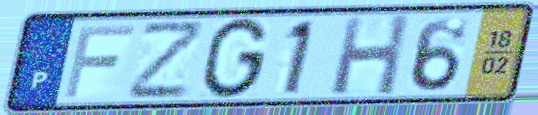1: (280, 18, 318, 97)
6: (408, 15, 470, 93)
F: (60, 22, 138, 100)
G: (197, 15, 272, 102)
H: (328, 11, 413, 99)
Z: (125, 18, 210, 102)
